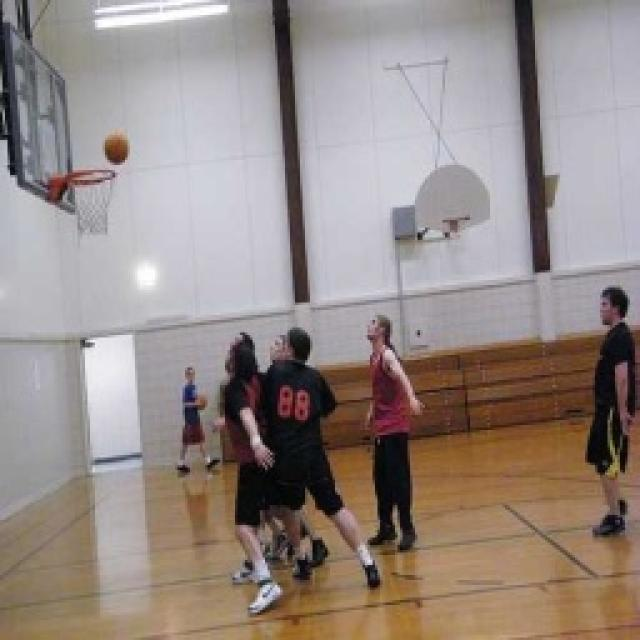rim: (102, 130, 128, 164)
